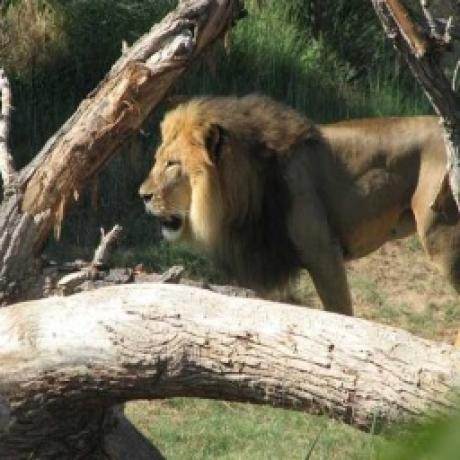Lion: (135, 90, 460, 318)
